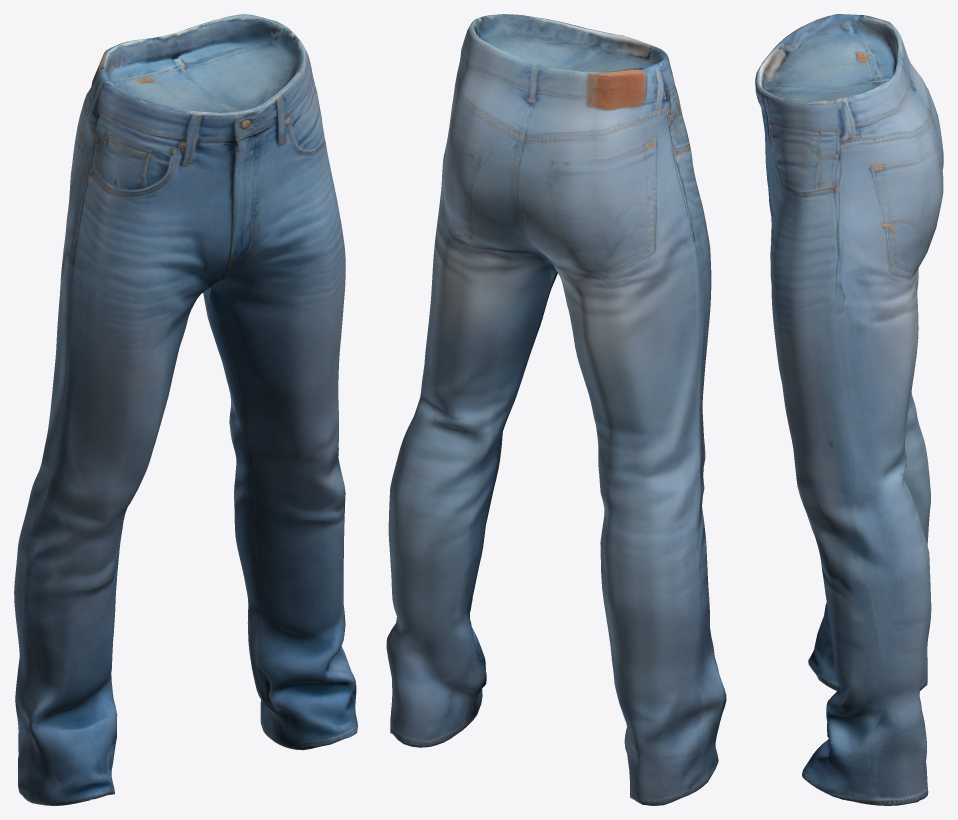
File: jeans azul.glb
The picture shows the model from 3 angles, left to right: view 1: azimuth 30°, elevation 25°; view 2: azimuth 150°, elevation 25°; view 3: azimuth 270°, elevation 25°; orthographic projection. The views are drawn at different scales.
Bounding box in the file's own units: 0.9382 × 2 × 0.4921.
Materials: 1 (1 with a texture image).
